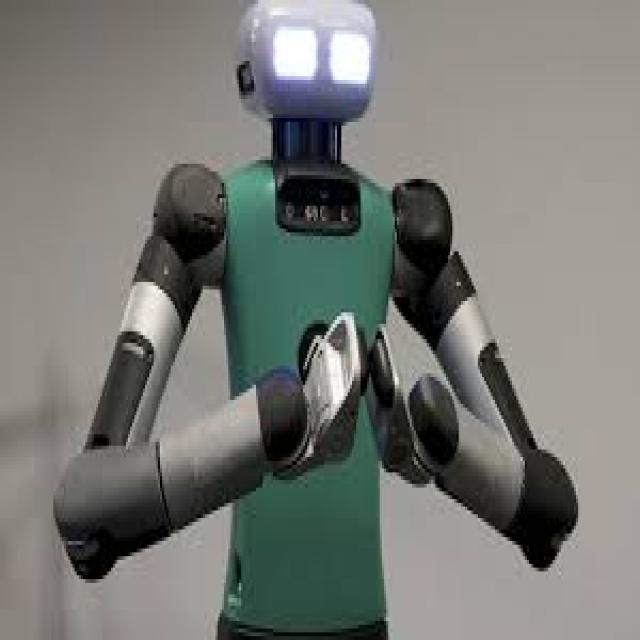humanoid-arm: (59, 311, 358, 574), (372, 334, 580, 572)
